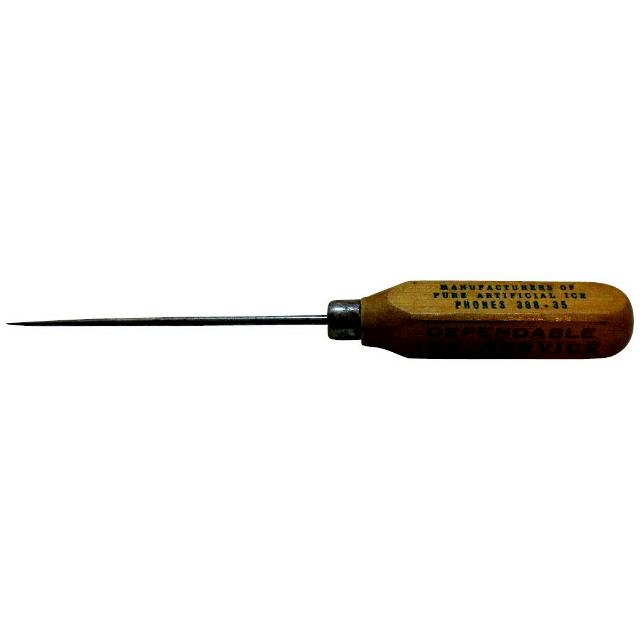ice pick: (8, 281, 634, 359)
